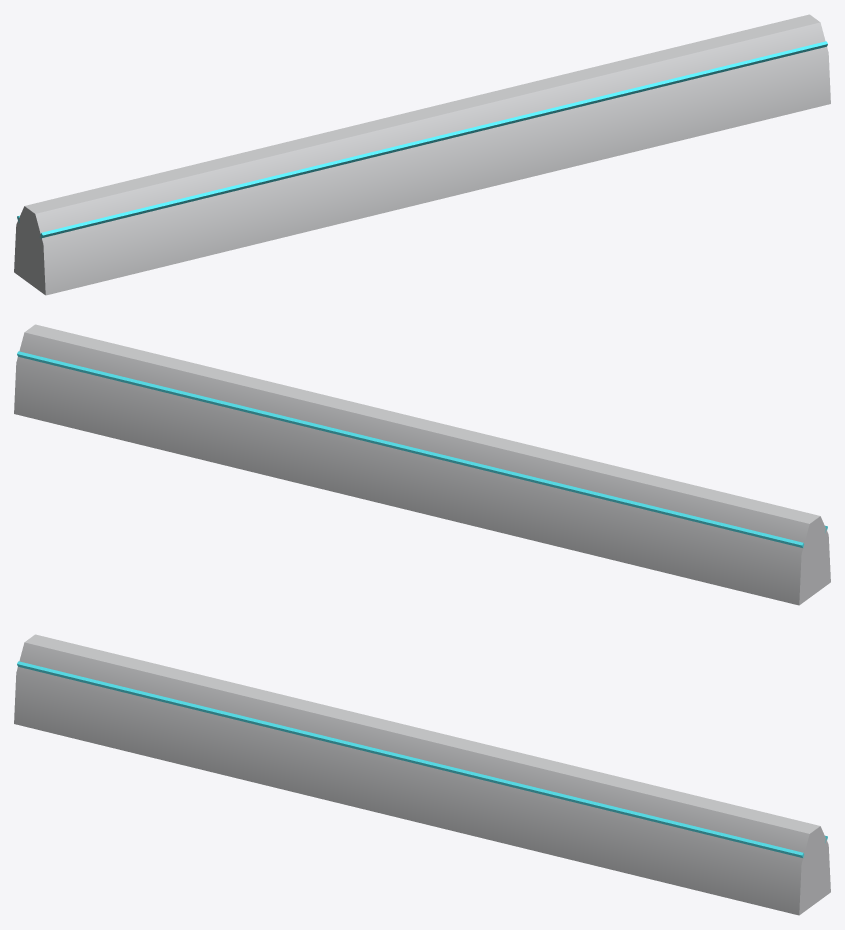
The model's file is SM_FutureBarrier_10m.fbx.
3 renders of one model, top to bottom at view 1: azimuth 30°, elevation 25°; view 2: azimuth 150°, elevation 25°; view 3: azimuth 330°, elevation 25°, orthographic.
Visible parts, largest first — view 1: SM_FutureBarrier_10m; view 2: SM_FutureBarrier_10m; view 3: SM_FutureBarrier_10m.
Boxes of the visible parts, x1,y1,x2,y2 form: SM_FutureBarrier_10m: (14,14,830,295); SM_FutureBarrier_10m: (14,324,830,605); SM_FutureBarrier_10m: (14,634,830,915).
Size of the model in its own units: 1000 by 90 by 70.
